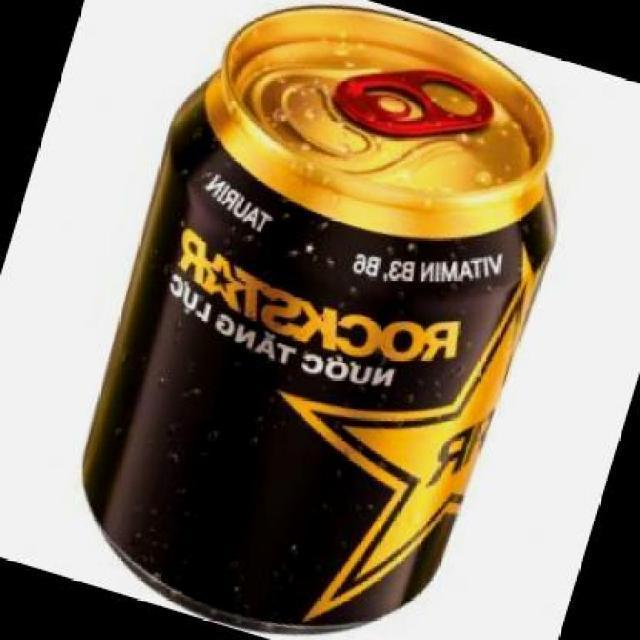can: (76, 0, 564, 640)
